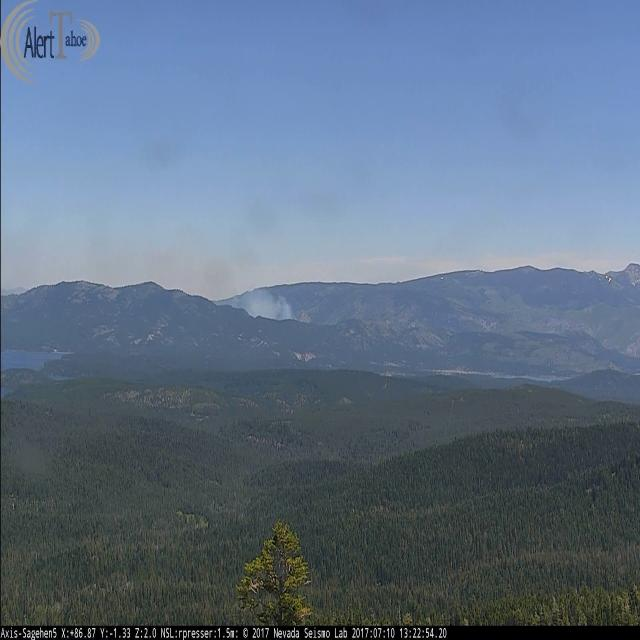smoke: (180, 248, 230, 296), (238, 288, 296, 318)
